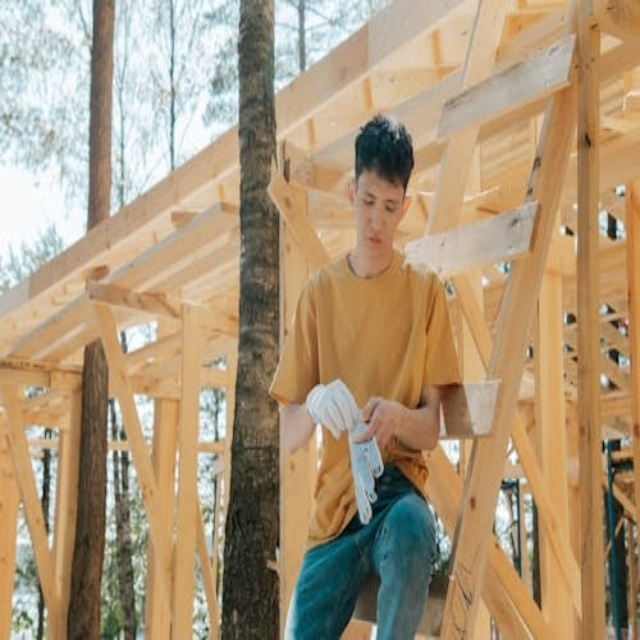Guantes: (300, 371, 364, 438)
Sin_gafas: (355, 183, 401, 221)
Sin_guantes: (352, 396, 411, 461)
Sin_mascara: (357, 229, 390, 263)
